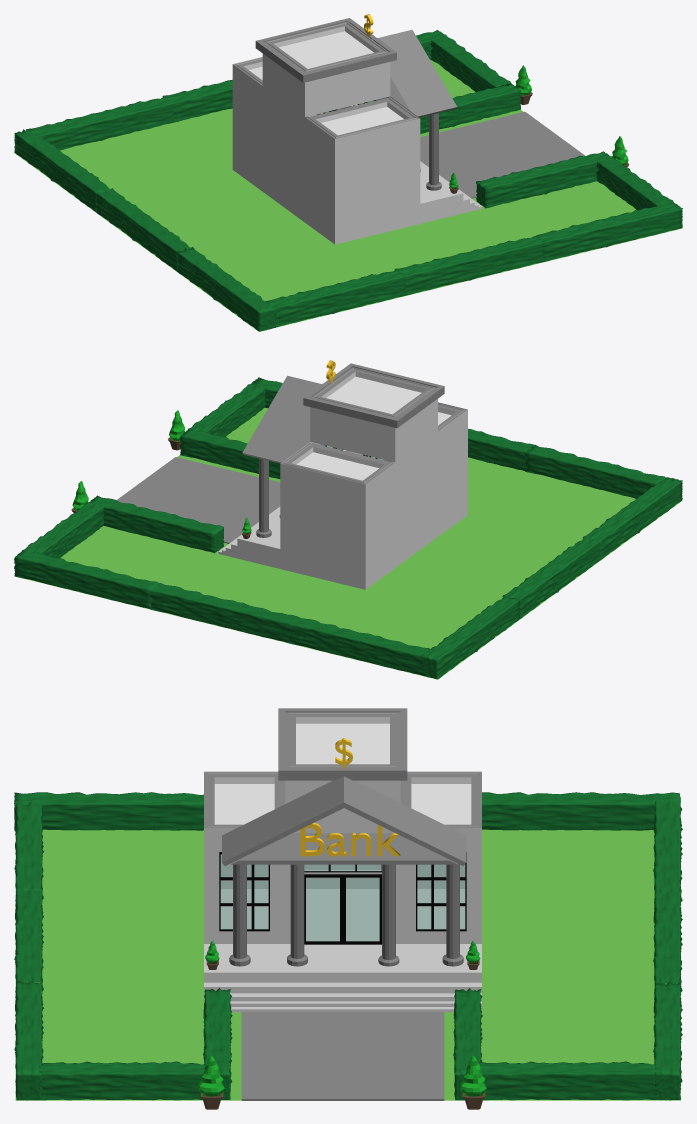
3 views of the same model, one above another, from view 1: azimuth 30°, elevation 25°; view 2: azimuth 150°, elevation 25°; view 3: azimuth 270°, elevation 25° (orthographic). The views are drawn at different scales.
Visible parts, largest first — view 1: Plane, struttura, Plane.001, TETTU, Cube.004, Cube.003, Cube.005, Cube.008, Cube.001, TETTOIA, Cube.009, Cube.011 (+7 smaller); view 2: Plane, struttura, Plane.001, TETTU, Cube.007, Cube.008, Cube.006, Cube.005, Cube.002, TETTOIA, Cube.011, Cube.009 (+7 smaller); view 3: Plane, struttura, Plane.001, GRADINI, TETTU, TETTOIA, Cube.011, Cube.013, Cube.009, Cube.012, VETRI FINESTRE, VETRI PORTA (+17 smaller).
Part boxes in pixels (x1,y1,x2,y2): Plane: [18, 60, 682, 331]; struttura: [232, 18, 420, 244]; Plane.001: [420, 111, 585, 198]; TETTU: [234, 21, 418, 138]; Cube.004: [394, 236, 544, 295]; Cube.003: [536, 202, 682, 261]; Cube.005: [265, 270, 406, 327]; Cube.008: [26, 97, 174, 150]; Cube.001: [476, 151, 612, 208]; TETTOIA: [372, 29, 456, 117]; Cube.009: [176, 247, 276, 331]; Cube.011: [14, 128, 110, 211]; Plane: [24, 407, 681, 679]; struttura: [280, 363, 467, 589]; Plane.001: [116, 457, 280, 543]; TETTU: [281, 367, 466, 484]; Cube.007: [150, 583, 297, 641]; Cube.008: [286, 616, 433, 675]; Cube.006: [14, 549, 159, 608]; Cube.005: [525, 445, 665, 498]; Cube.002: [89, 495, 223, 553]; TETTOIA: [242, 375, 327, 463]; Cube.011: [421, 596, 520, 679]; Cube.009: [583, 477, 682, 560]; Plane: [15, 829, 679, 1100]; struttura: [204, 708, 481, 943]; Plane.001: [241, 1012, 444, 1100]; GRADINI: [204, 944, 481, 1012]; TETTU: [204, 712, 481, 827]; TETTOIA: [222, 776, 466, 865]; Cube.011: [482, 792, 680, 830]; Cube.013: [479, 1061, 659, 1100]; Cube.009: [14, 792, 203, 830]; Cube.012: [38, 1061, 205, 1100]; VETRI FINESTRE: [220, 855, 465, 929]; VETRI PORTA: [306, 878, 379, 941].
Size of the model in its own units: 31.18 by 11.64 by 30.16.
Materials: 5 (1 with a texture image).
